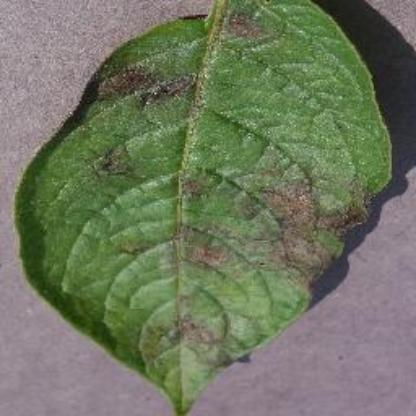Late-Blight: (14, 4, 396, 406)
